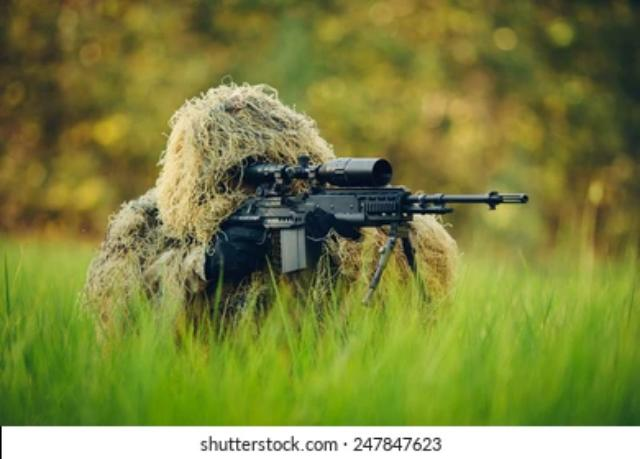other: (83, 81, 463, 310)
